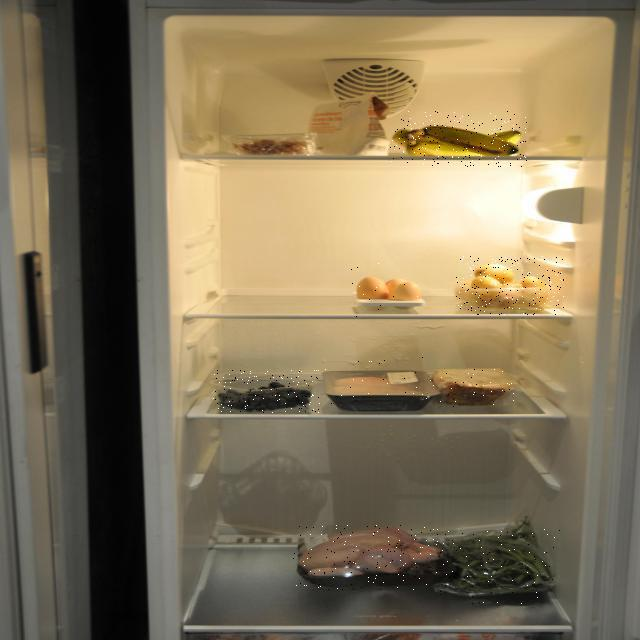banana: (390, 111, 527, 168)
bread: (434, 367, 515, 407)
chicken: (292, 525, 447, 590)
eggs: (351, 262, 429, 317)
green beans: (438, 529, 563, 604)
meat: (317, 357, 454, 405)
olive: (213, 370, 319, 413)
potatoes: (456, 256, 565, 315)
